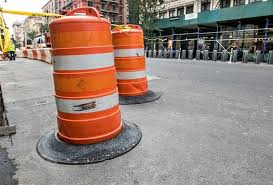barrel: (47, 15, 117, 143), (113, 24, 151, 93)
